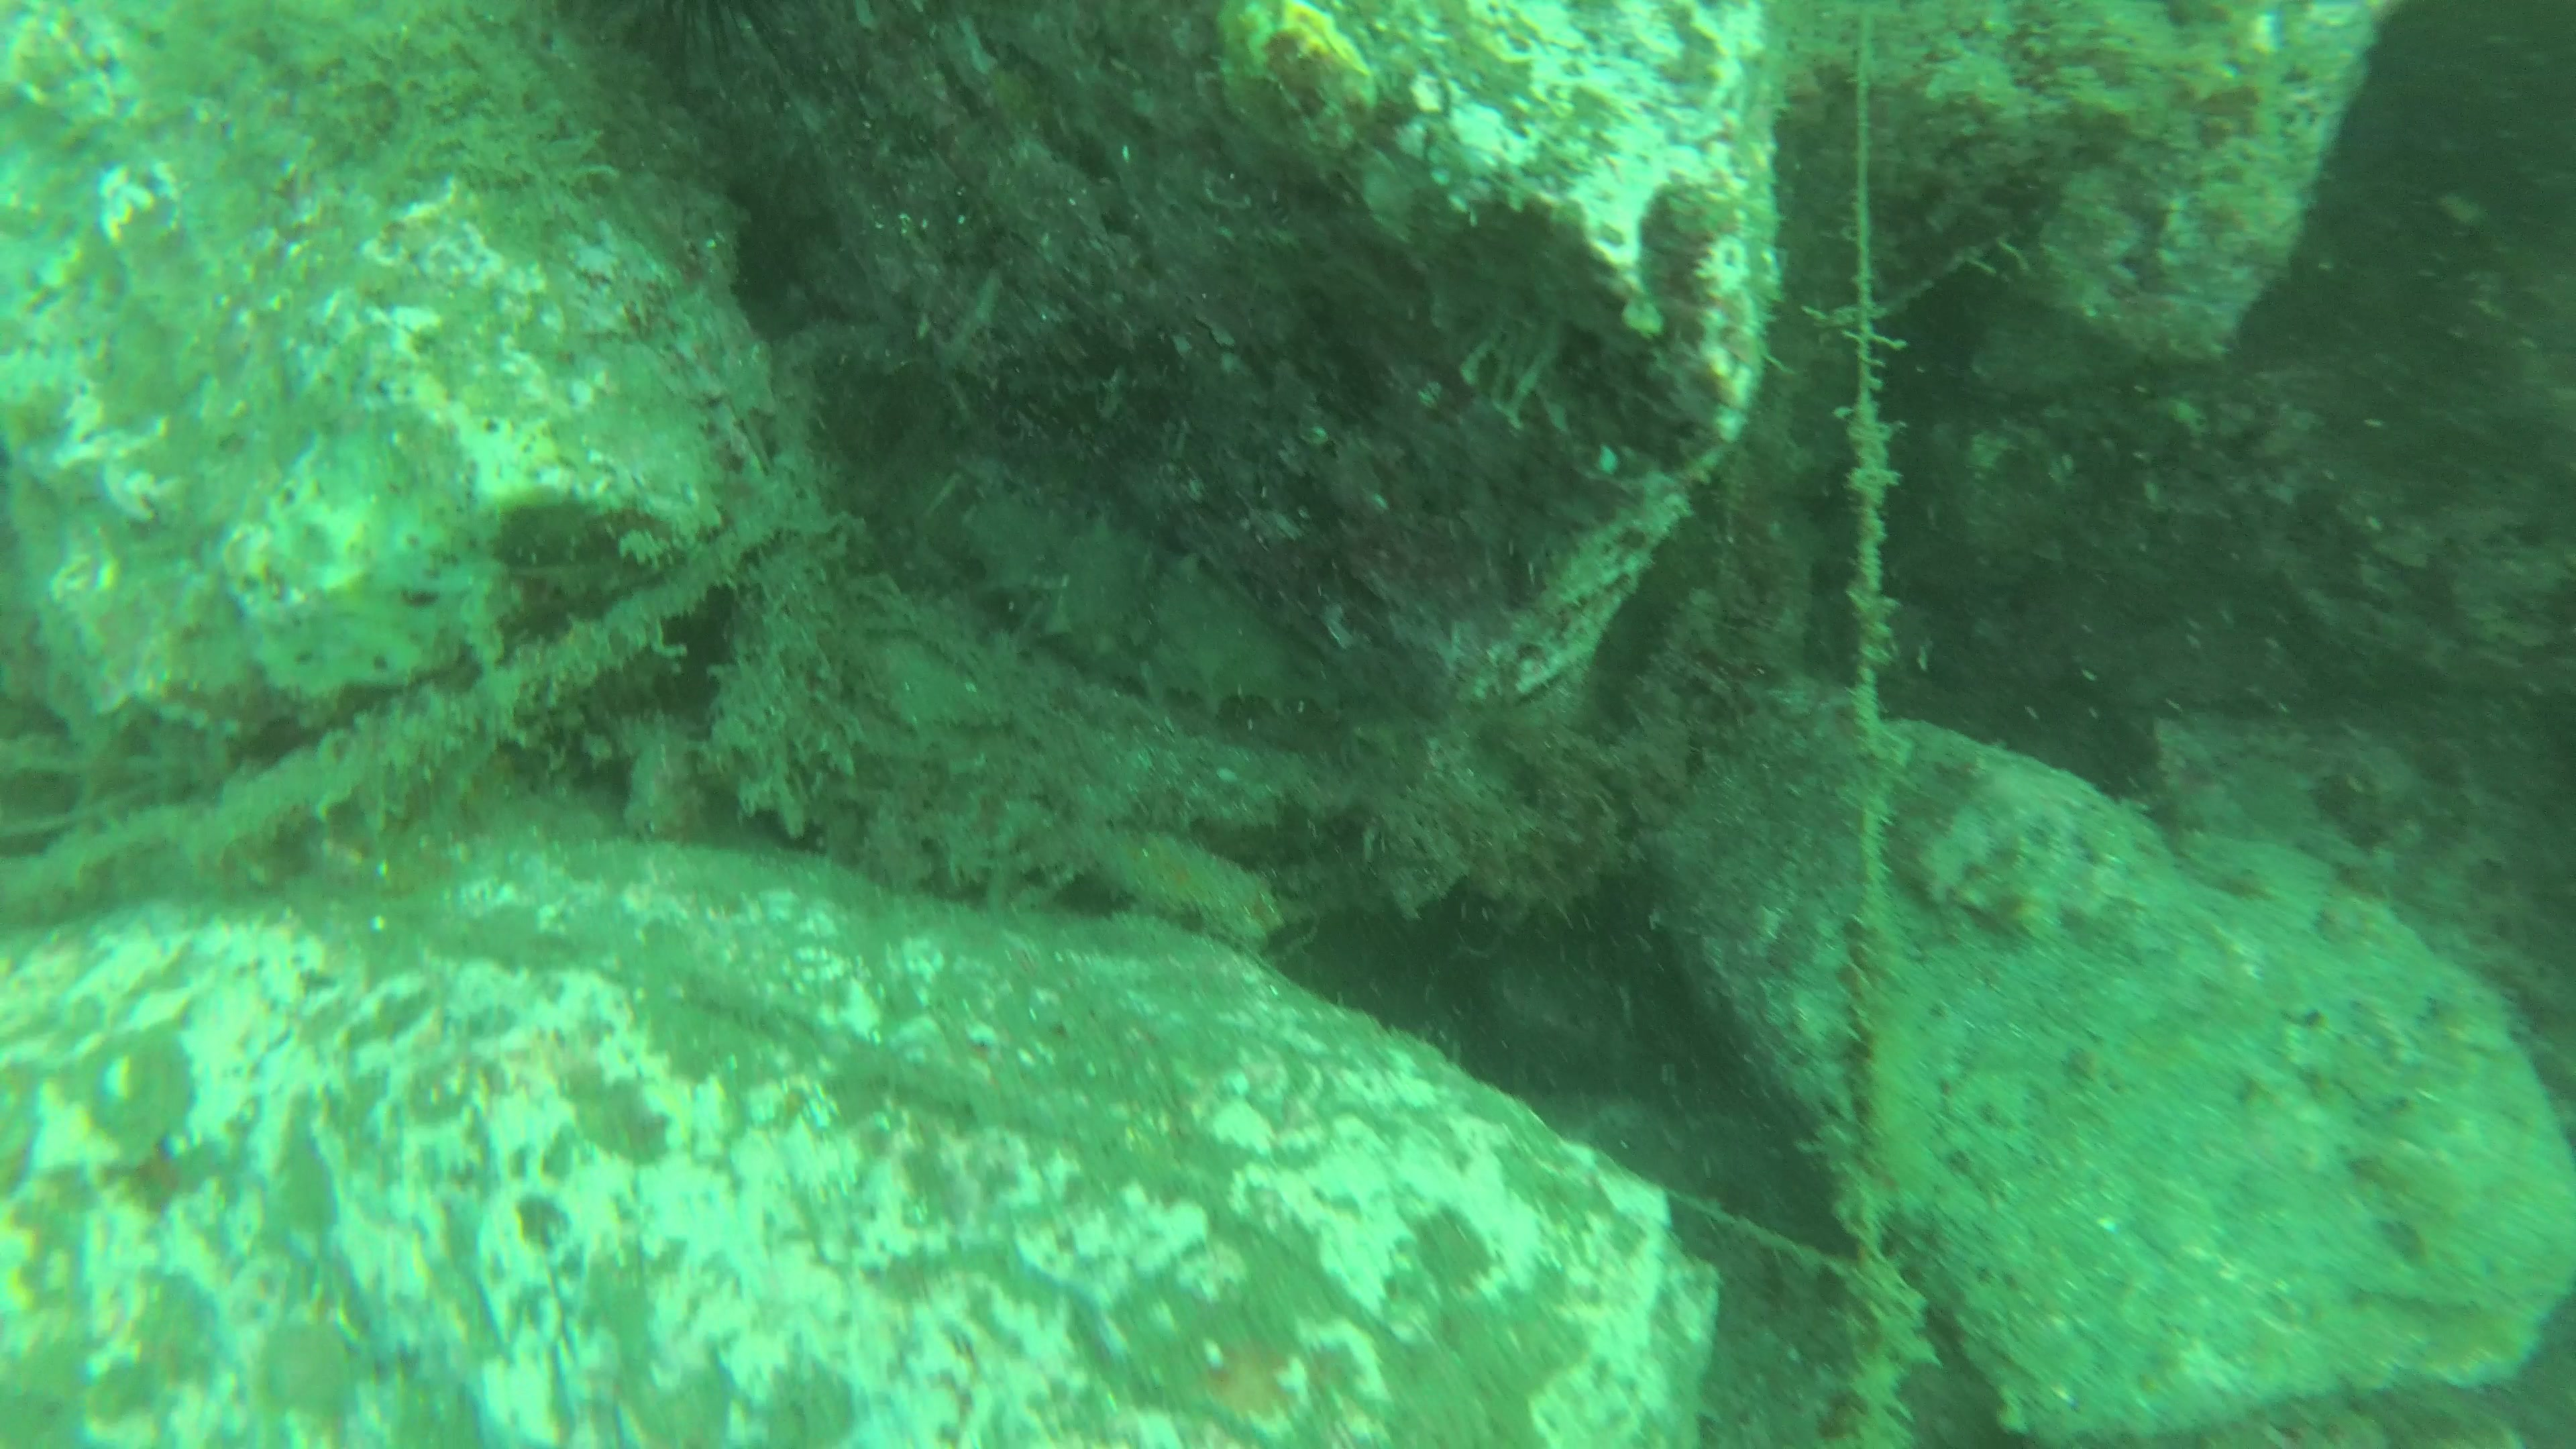holothurian: (932, 472, 1311, 724)
